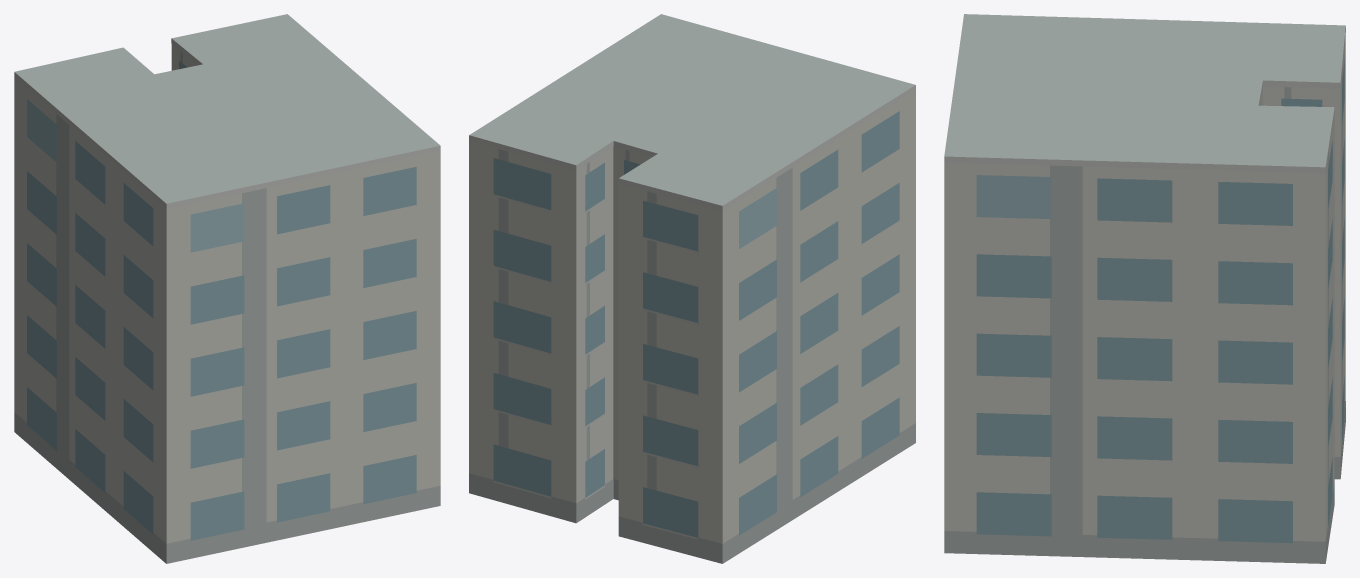
File: survey-upis-32989772.glb
The picture shows the model from 3 angles, left to right: view 1: azimuth 30°, elevation 25°; view 2: azimuth 150°, elevation 25°; view 3: azimuth 270°, elevation 25°; orthographic projection. The views are drawn at different scales.
Visible parts, largest first — view 1: survey-upis-32989772.tmp; view 2: survey-upis-32989772.tmp; view 3: survey-upis-32989772.tmp.
Boxes of the visible parts, x1,y1,x2,y2 form: survey-upis-32989772.tmp: [14, 14, 440, 563]; survey-upis-32989772.tmp: [469, 14, 915, 563]; survey-upis-32989772.tmp: [944, 14, 1345, 563].
Bounding box in the file's own units: 13.36 × 16.1 × 14.79.
